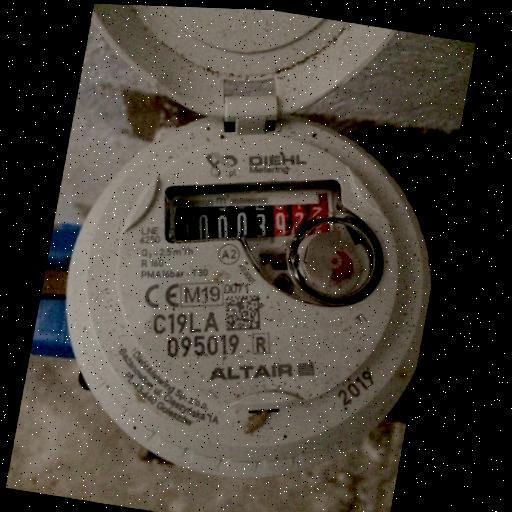0: (225, 202, 257, 242), (188, 204, 218, 244), (206, 203, 236, 243), (171, 204, 201, 243)
2: (285, 201, 316, 238)
3: (245, 201, 277, 241)
7: (306, 199, 331, 224)
9: (265, 200, 296, 239)
border_water_meter_number: (152, 151, 353, 271)
